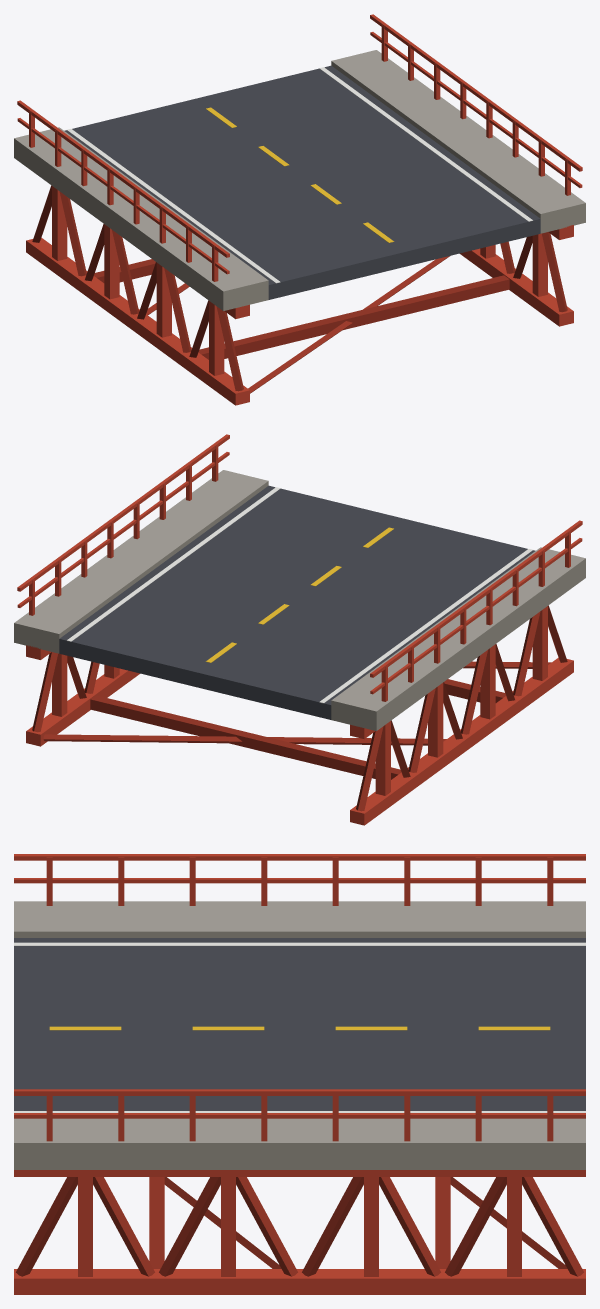
The model's file is Bridge_Deck.glb.
3 views of the same model, one above another, from view 1: azimuth 30°, elevation 25°; view 2: azimuth 150°, elevation 25°; view 3: azimuth 270°, elevation 25° (orthographic). The views are drawn at different scales.
Visible parts, largest first — view 1: Bridge_Deck_Road, Bridge_Deck_Steel; view 2: Bridge_Deck_Road, Bridge_Deck_Steel; view 3: Bridge_Deck_Road, Bridge_Deck_Steel.
Boxes of the visible parts, x1=… form: Bridge_Deck_Road: x1=14, y1=50, x2=585, y2=310; Bridge_Deck_Steel: x1=17, y1=14, x2=582, y2=405; Bridge_Deck_Road: x1=14, y1=470, x2=585, y2=730; Bridge_Deck_Steel: x1=17, y1=434, x2=582, y2=825; Bridge_Deck_Road: x1=14, y1=901, x2=585, y2=1169; Bridge_Deck_Steel: x1=14, y1=854, x2=585, y2=1294.
Size of the model in its own units: 11.2 by 4.52 by 11.2.
1 material, 1 textured.
